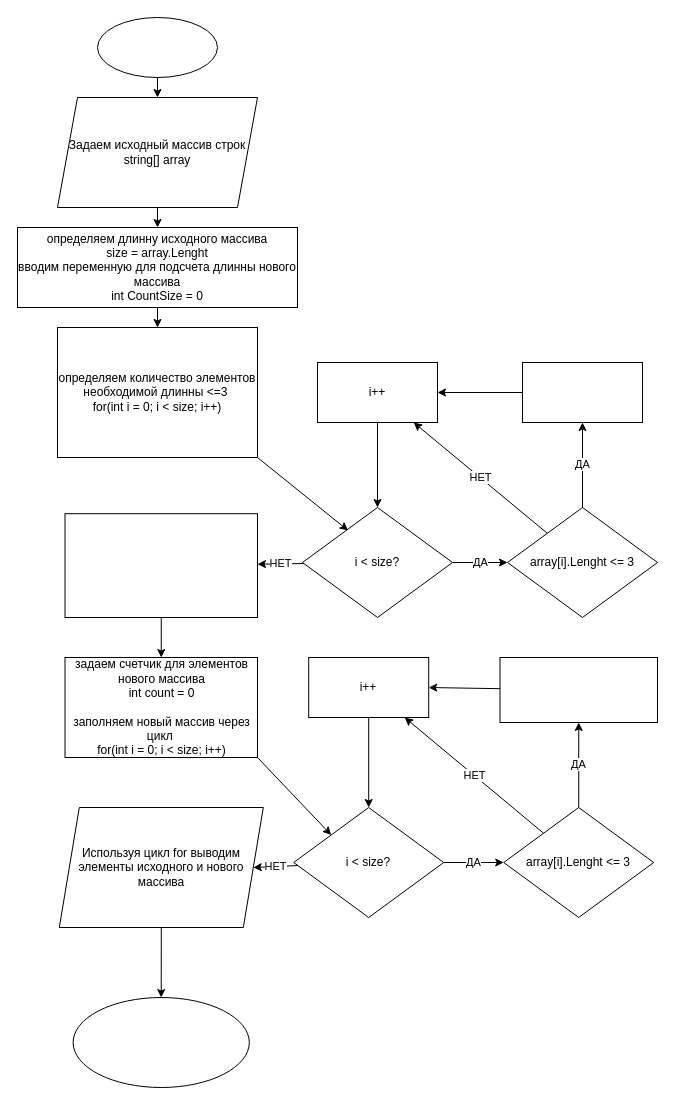
Some shapes in this 675 by 1105 pixel diagram are drawn without their labels. The shapes that lost their labels are listed below. From the top down, each one's box as (x1, y1, x2, y2) in pixels, then its label:
(96, 16, 218, 78): Начало
(522, 362, 642, 422): CountSize++
(64, 513, 258, 618): Задаем новый массив string[] NewArray = new string[CountSize]
(499, 656, 658, 722): NewArray[count] = array[i] count++
(72, 996, 249, 1088): Конец
